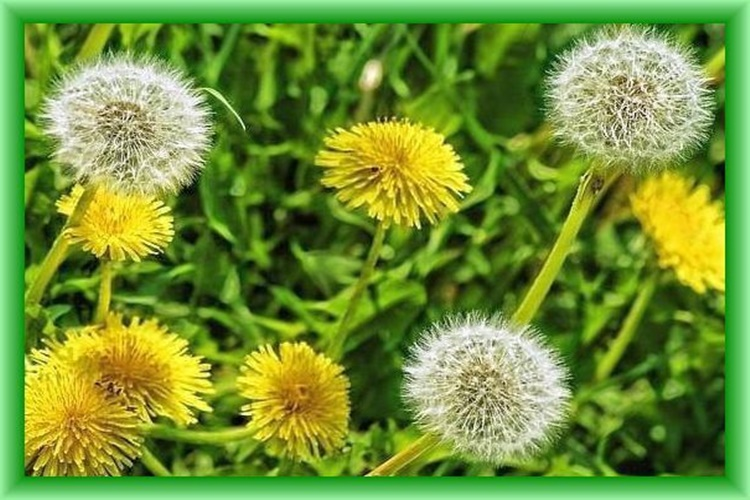begonvil: (386, 307, 590, 462), (29, 309, 206, 480), (542, 22, 723, 182), (39, 49, 216, 203), (311, 102, 475, 237), (231, 329, 355, 482), (611, 162, 730, 315), (47, 185, 187, 278)
